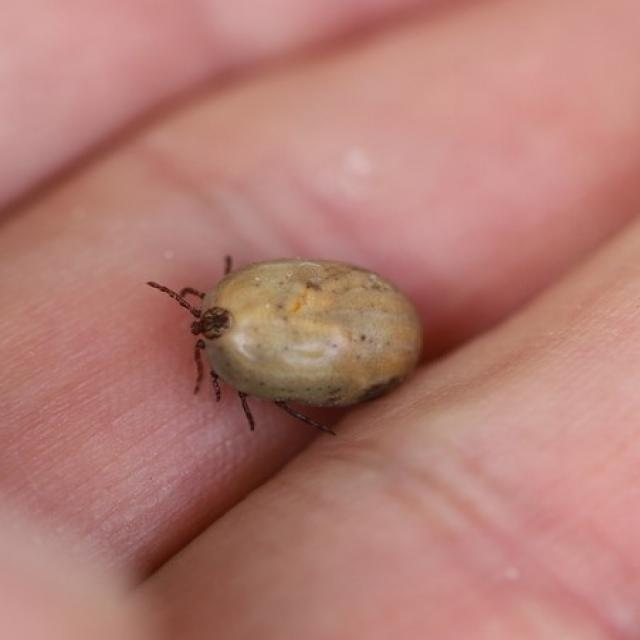Dermacentor Reticulatus-F-Fed: (146, 255, 423, 436)
